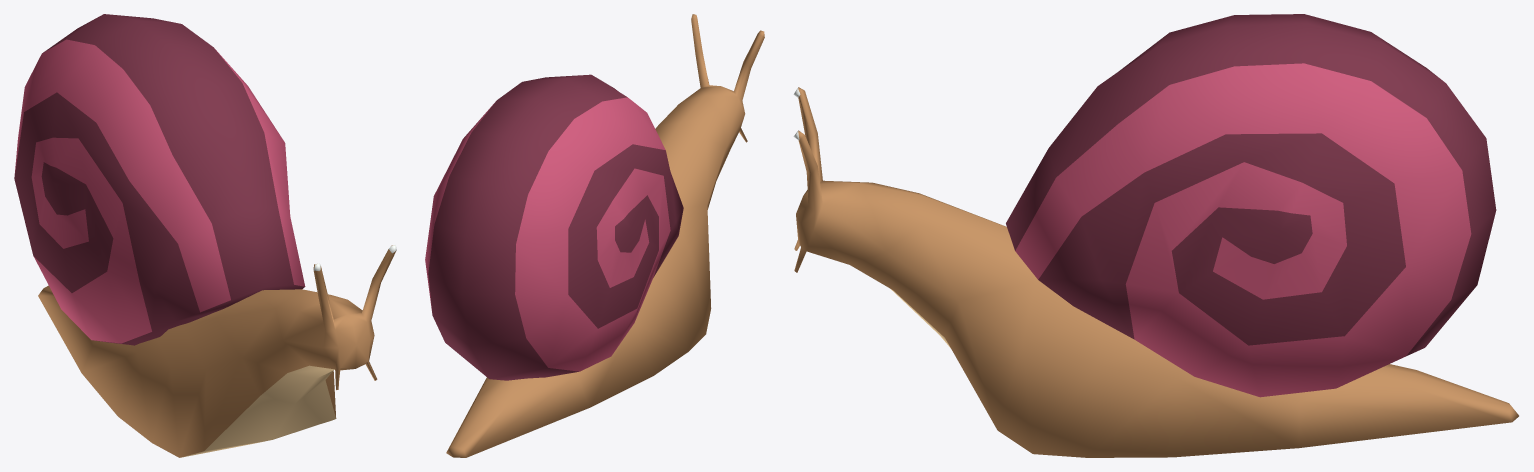
Rendered from Snail01.glb.
The picture shows the model from 3 angles, left to right: view 1: azimuth 30°, elevation 25°; view 2: azimuth 150°, elevation 25°; view 3: azimuth 270°, elevation 25°; orthographic projection. The views are drawn at different scales.
Parts seen in each view (by area): view 1: Snail01; view 2: Snail01; view 3: Snail01.
Boxes of the visible parts, box(x1,y1,x2,y2) form: Snail01: box(14, 14, 396, 457); Snail01: box(425, 14, 764, 457); Snail01: box(793, 14, 1518, 457).
Size of what is drawn, in the model's own units: 0.1666 by 0.277 by 0.4646.
1 material, 1 textured.
